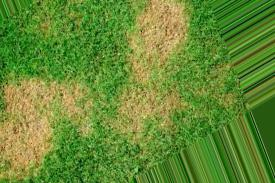patch: (112, 78, 197, 132), (1, 85, 51, 167), (132, 2, 193, 60)
